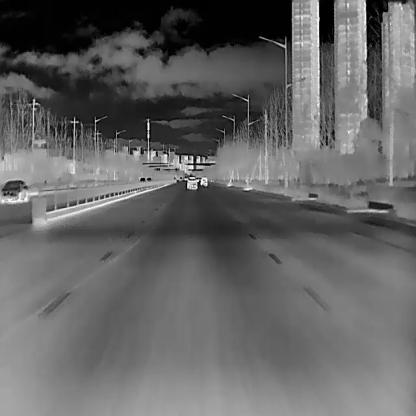car: (0, 178, 27, 202), (186, 176, 196, 188), (199, 176, 206, 184), (146, 176, 152, 181), (139, 177, 144, 182)
